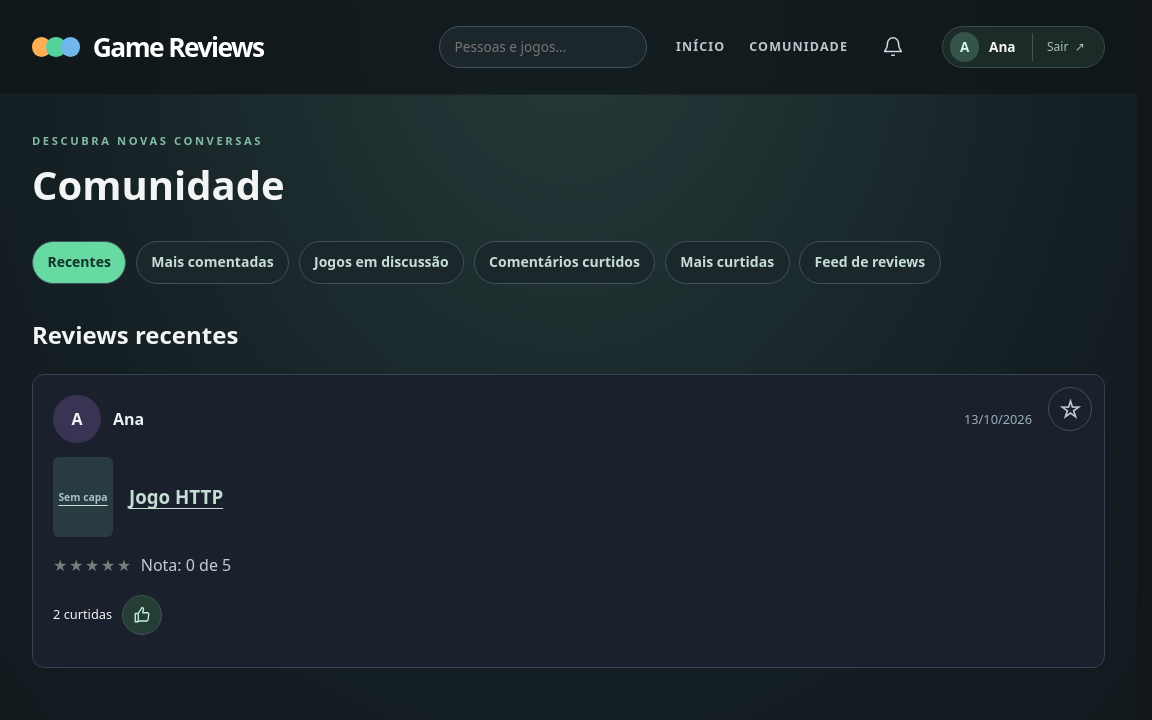
Scenario: erro de escrita não confirma estado falso e retry consulta antes de liberar ação
Step 1. Click the button named "Curtir review de Ana" → (142, 615), box [122, 595, 162, 635]
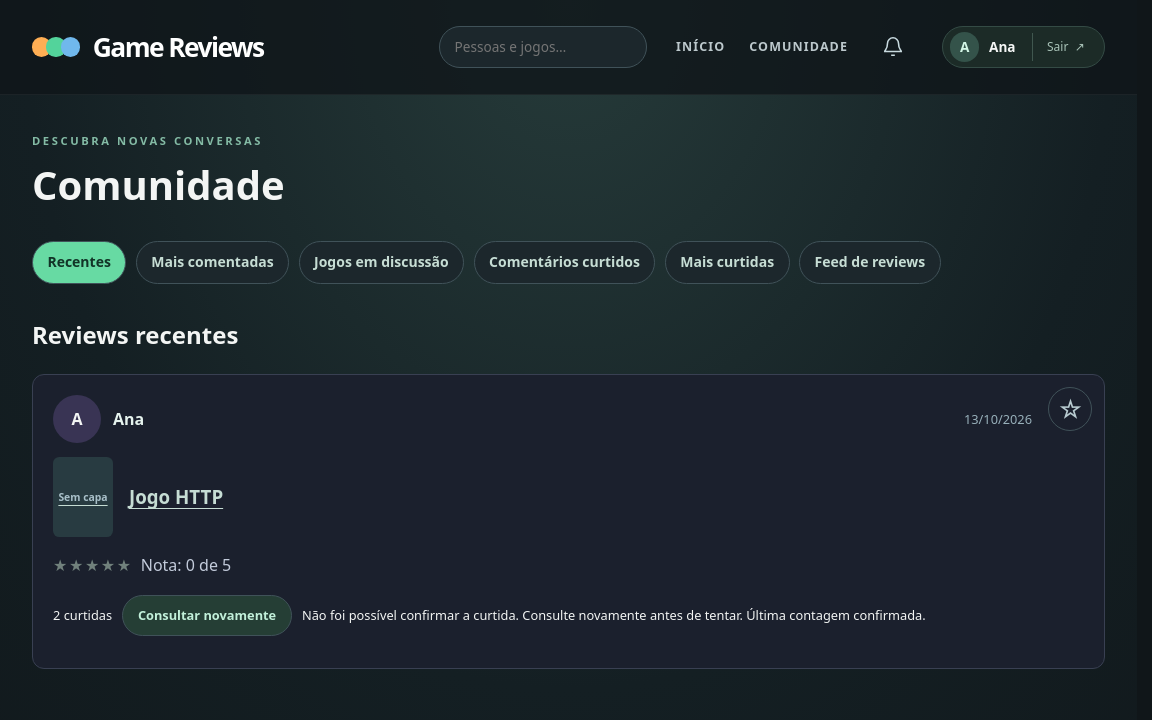
Expected: the text "2 curtidas" is shown, [53, 605, 112, 626]
Expected: the button with aria-label "Tentar novamente curtida da review de Ana" is shown
Step 2. Click the button with aria-label "Tentar novamente curtida da review de Ana" → (207, 615), box [122, 595, 292, 636]
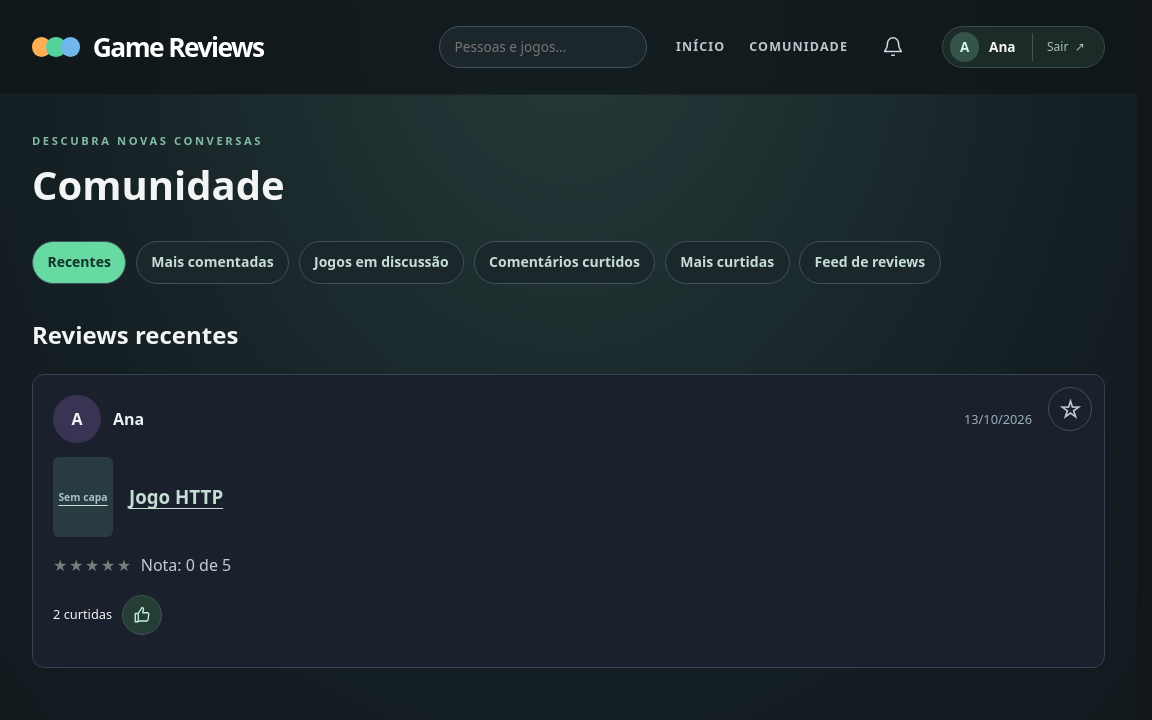
Expected: the button named "Curtir review de Ana" is shown, [122, 595, 162, 635]
